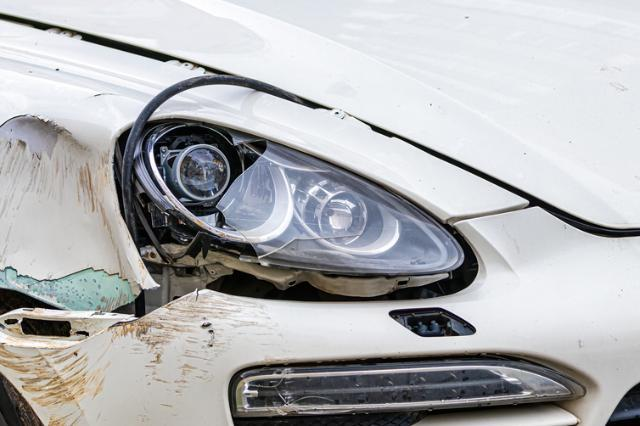Bumper: (2, 290, 454, 426)
Fender: (0, 16, 200, 308)
Light: (112, 116, 474, 300)
